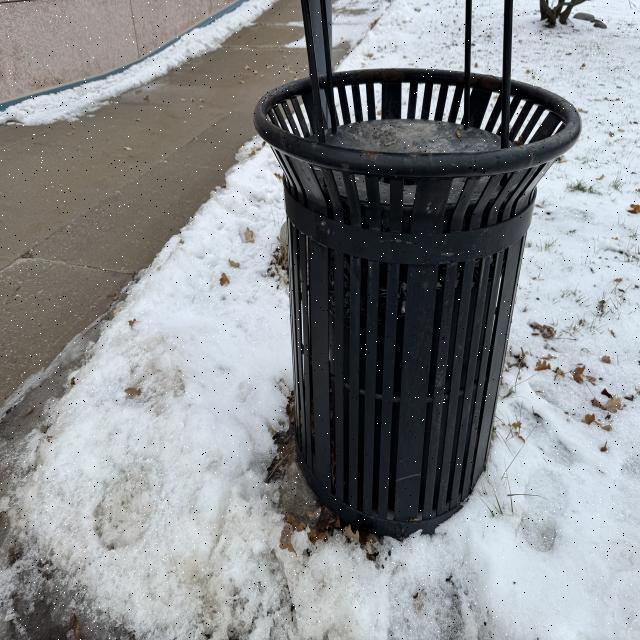Dustbin: (253, 0, 583, 536)
